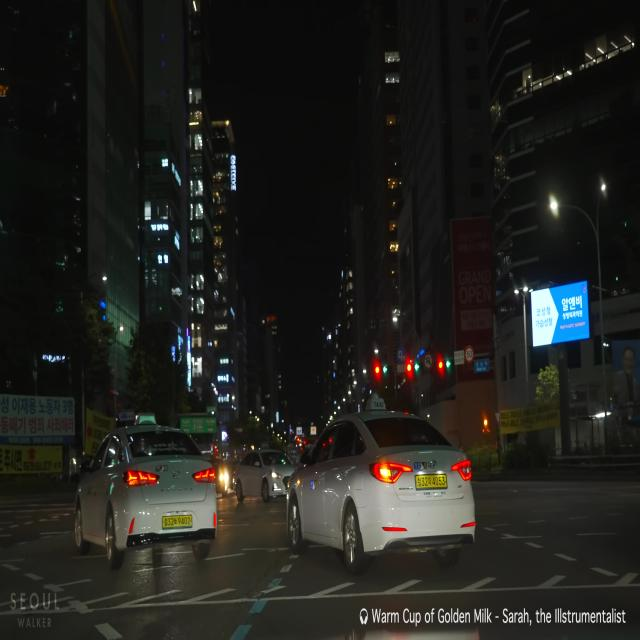Red Light: (375, 366, 380, 374), (438, 361, 443, 369), (407, 364, 411, 372)
